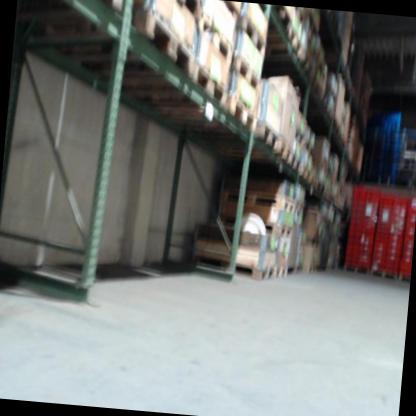pallet: (128, 5, 199, 79), (187, 58, 231, 107), (221, 187, 296, 215), (196, 12, 234, 61), (238, 12, 270, 56), (230, 53, 264, 93), (223, 96, 259, 132), (253, 121, 282, 152), (286, 26, 304, 59), (277, 140, 295, 166), (271, 220, 295, 237), (253, 266, 276, 282), (343, 264, 371, 275), (370, 270, 398, 281), (300, 166, 313, 184), (295, 127, 306, 146), (290, 156, 301, 173), (275, 268, 287, 280), (329, 88, 338, 104), (397, 273, 411, 283), (305, 264, 317, 273), (310, 238, 320, 248), (294, 264, 303, 274)
